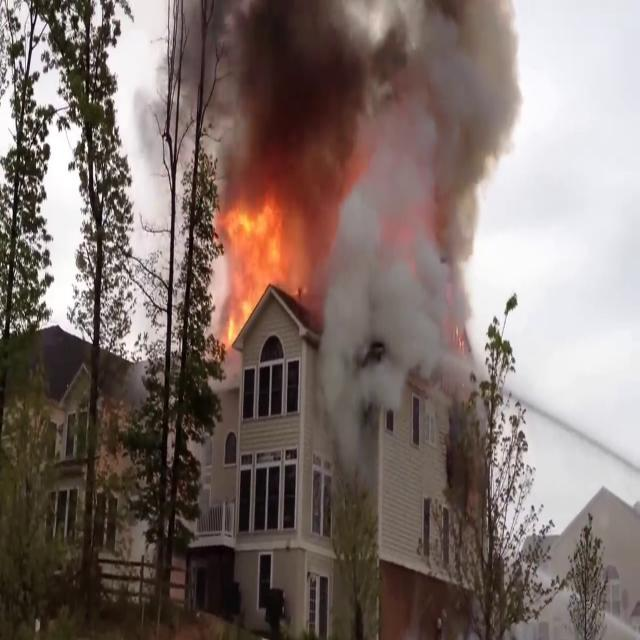Fire: (212, 192, 304, 342)
Smoke: (320, 0, 532, 423), (148, 0, 531, 213)
